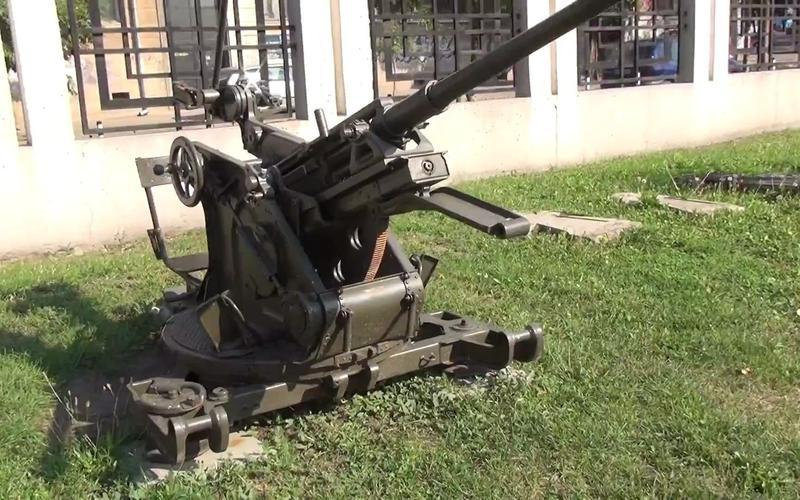MIL_SPG: (128, 0, 612, 463)
